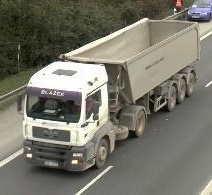truck: (17, 19, 199, 173)
